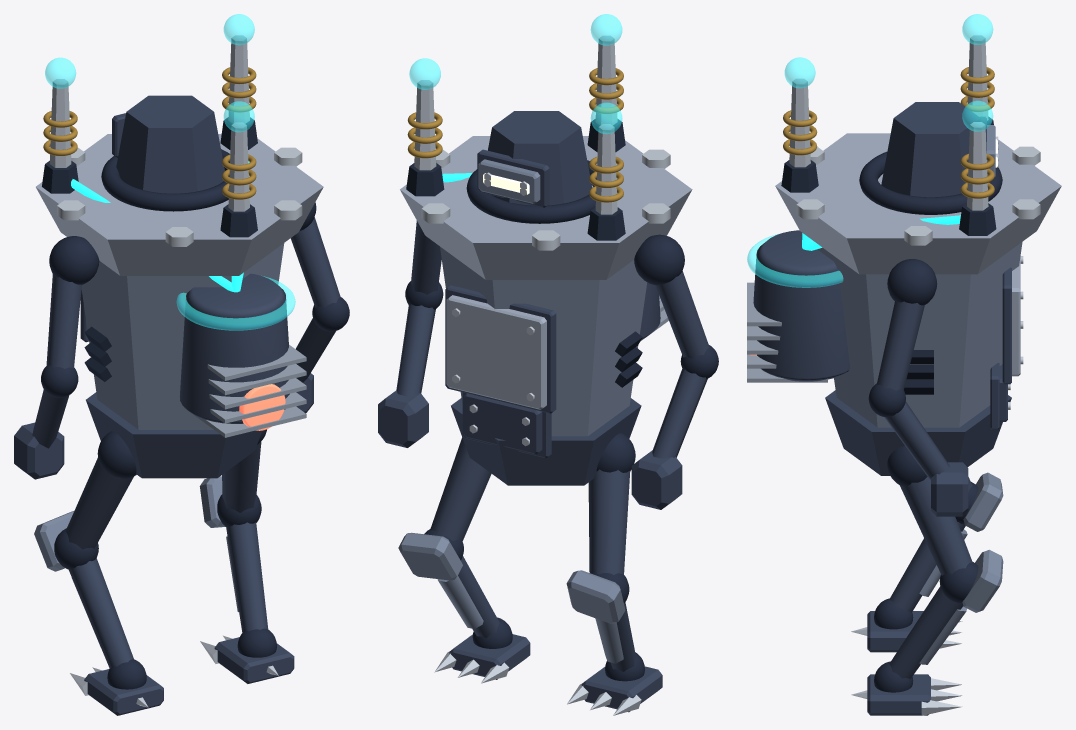
The model's file is enemy_warden.glb.
3 renders of one model, left to right at view 1: azimuth 30°, elevation 25°; view 2: azimuth 150°, elevation 25°; view 3: azimuth 270°, elevation 25°, orthographic. The views are drawn at different scales.
Parts seen in each view (by area): view 1: warden_shoulders, warden_torso, warden_generator, warden_head, warden_pelvis, warden_gen_fins, warden_leg_r_shin, warden_leg_l_shin, warden_leg_l_thigh, warden_collar, warden_upper_arm_l, warden_upper_arm_r (+29 smaller); view 2: warden_shoulders, warden_torso, warden_chest_face, warden_pelvis, warden_head, warden_leg_l_thigh, warden_abdomen_face, warden_leg_r_thigh, warden_collar, warden_forearm_r, warden_forearm_l, warden_upper_arm_l (+33 smaller); view 3: warden_torso, warden_shoulders, warden_generator, warden_head, warden_pelvis, warden_leg_r_thigh, warden_collar, warden_upper_arm_r, warden_leg_r_shin, warden_shoulder_bolts, warden_gen_fins, warden_forearm_r (+26 smaller).
Part boxes in pixels (x1,y1,x2,y2): warden_shoulders: (36,134,323,275); warden_torso: (81,243,284,429); warden_generator: (179,273,289,423); warden_head: (116,95,224,193); warden_pelvis: (86,392,261,478); warden_gen_fins: (184,344,306,437); warden_leg_r_shin: (226,522,268,632); warden_leg_l_shin: (68,558,133,668); warden_leg_l_thigh: (65,458,133,549); warden_collar: (101,149,229,211); warden_upper_arm_l: (46,274,81,368); warden_upper_arm_r: (290,217,340,307); warden_shoulders: (400,136,692,279); warden_torso: (440,246,647,436); warden_chest_face: (446,295,546,409); warden_pelvis: (451,398,641,485); warden_head: (488,111,592,205); warden_leg_l_thigh: (588,469,630,574); warden_abdomen_face: (464,393,542,454); warden_leg_r_thigh: (430,437,491,542); warden_collar: (466,160,596,223); warden_forearm_r: (396,304,435,396); warden_forearm_l: (652,369,707,458); warden_upper_arm_l: (655,271,709,358); warden_torso: (817,242,1022,427); warden_shoulders: (775,133,1061,274); warden_generator: (753,230,850,381); warden_head: (881,102,981,197); warden_pelvis: (825,390,1011,475); warden_leg_r_thigh: (899,477,972,575); warden_collar: (859,151,1002,214); warden_upper_arm_r: (876,301,924,390); warden_leg_r_shin: (889,586,963,678); warden_shoulder_bolts: (796,146,1040,245); warden_gen_fins: (747,282,827,382); warden_forearm_r: (884,401,949,480).
Bounding box in the file's own units: 1.01 × 1.96 × 0.909.
